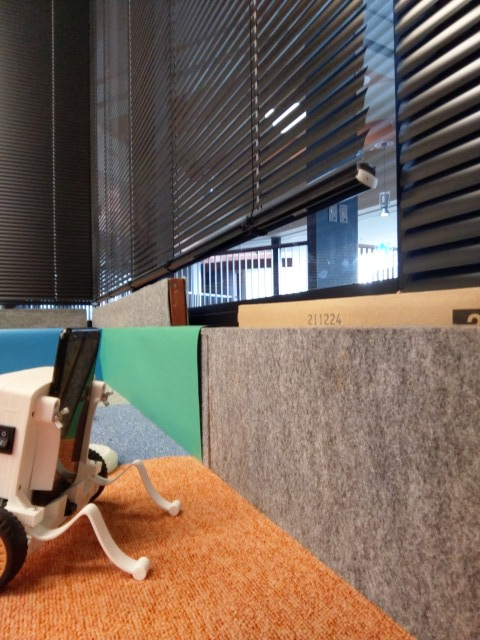br: (1, 320, 203, 603)
